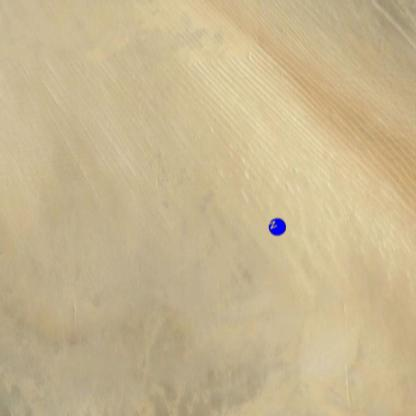N: (267, 220, 278, 230)
circle: (268, 217, 287, 237)
